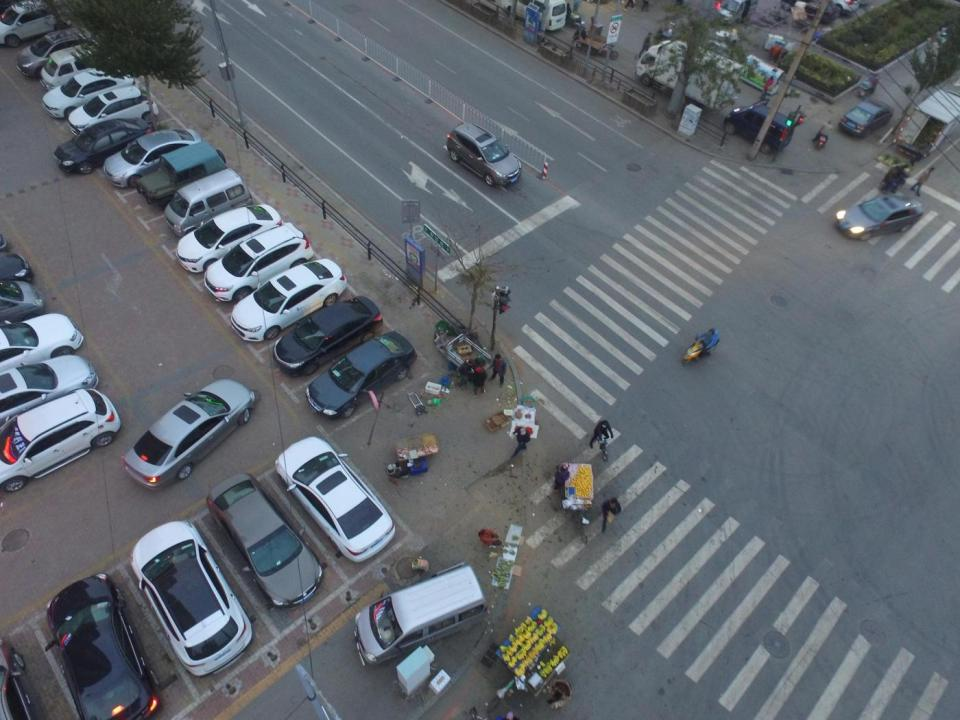car: (129, 520, 252, 678), (44, 576, 164, 718), (206, 472, 322, 607), (120, 378, 257, 489), (276, 437, 397, 560), (0, 390, 120, 492), (304, 332, 418, 422), (229, 257, 345, 342), (202, 224, 314, 306), (274, 295, 384, 377), (178, 202, 281, 273), (0, 354, 99, 426), (101, 127, 203, 190), (0, 312, 84, 387), (55, 116, 153, 175), (42, 68, 138, 122), (66, 86, 159, 140), (448, 121, 521, 188), (835, 194, 923, 241), (836, 97, 892, 143), (0, 282, 45, 328), (0, 252, 34, 296), (780, 0, 841, 21)
truck: (634, 41, 741, 108), (892, 88, 960, 160)
van: (352, 563, 494, 668), (136, 139, 228, 205), (164, 166, 249, 234), (12, 27, 106, 78), (41, 42, 124, 92), (723, 106, 795, 155), (0, 1, 72, 44), (479, 0, 568, 32), (714, 0, 758, 23)
